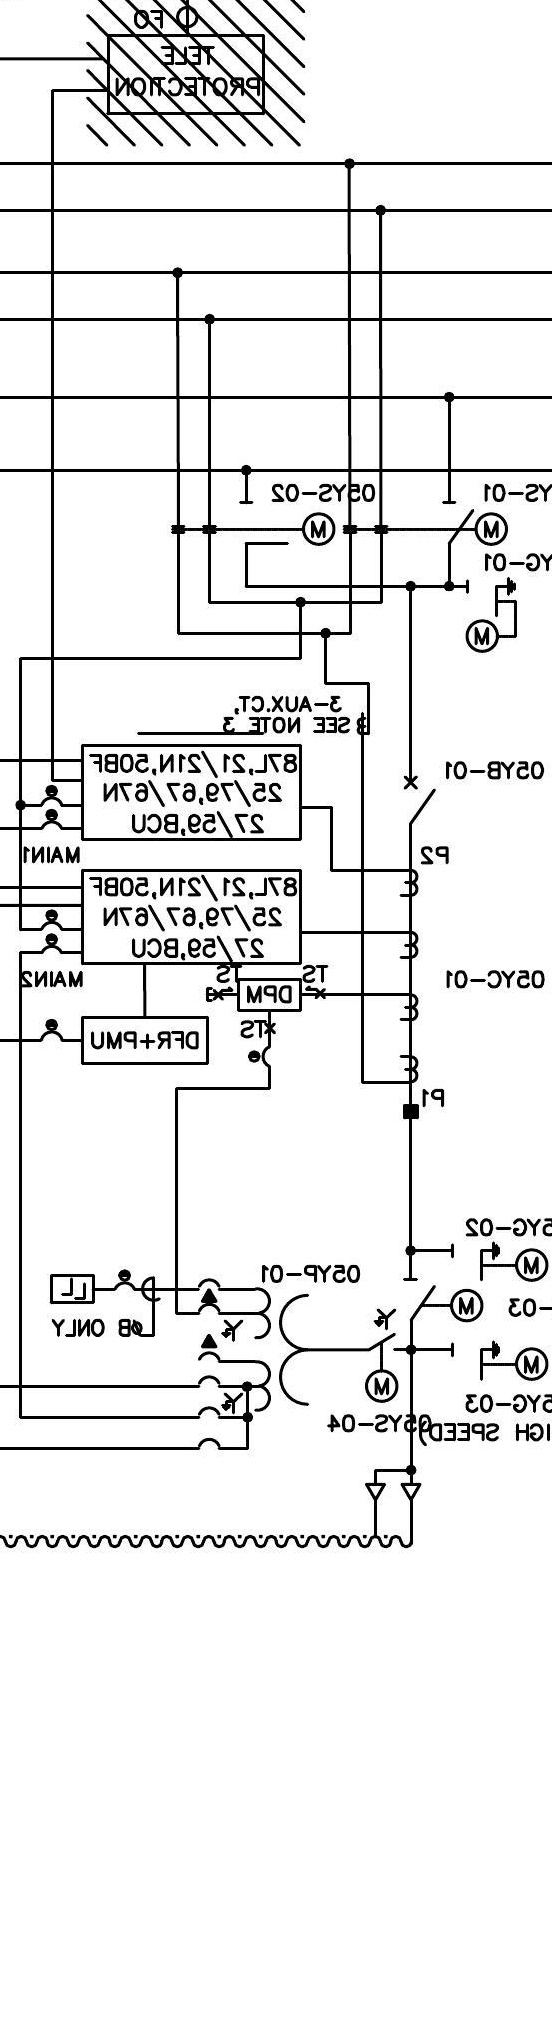115_1way_ds_w_motor: (238, 500, 336, 547), (402, 1276, 484, 1323), (441, 500, 509, 547), (363, 1332, 400, 1404)
115_breaker: (404, 775, 436, 826)
115_gs_w_motor: (450, 1339, 549, 1382), (450, 1240, 549, 1283), (465, 576, 518, 654)
115_vt_3p: (197, 1276, 397, 1416)
DPM: (236, 977, 303, 1013)
LL: (48, 1272, 96, 1305)
tele_protection: (104, 31, 268, 119)
terminator_double: (365, 1468, 422, 1502)
